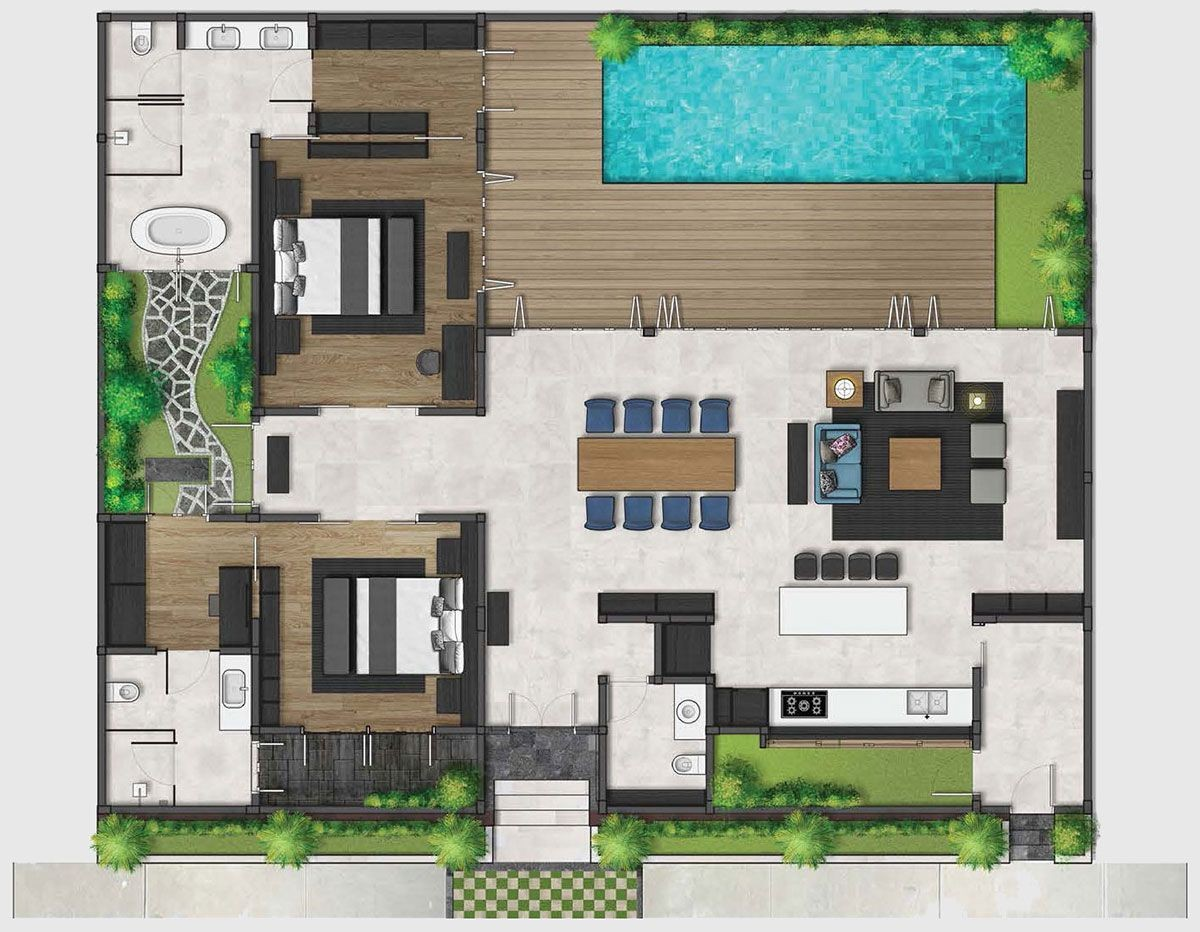wall: (97, 13, 106, 809), (1084, 12, 1092, 815), (478, 518, 487, 812), (711, 806, 973, 813), (318, 13, 479, 19), (251, 147, 259, 265), (252, 274, 259, 408), (184, 14, 308, 21), (972, 666, 981, 749), (972, 616, 1089, 622), (251, 653, 260, 727), (705, 735, 714, 802), (598, 735, 606, 802), (477, 350, 486, 408), (419, 406, 475, 414), (263, 407, 319, 415), (654, 622, 662, 677), (421, 513, 478, 520), (260, 513, 316, 520), (705, 684, 714, 725), (661, 676, 706, 684), (599, 684, 607, 725), (110, 513, 147, 521), (718, 726, 758, 733), (607, 614, 647, 621), (436, 726, 475, 733), (259, 726, 300, 732), (104, 647, 153, 652), (220, 647, 251, 654), (208, 513, 244, 519), (671, 616, 705, 621)
